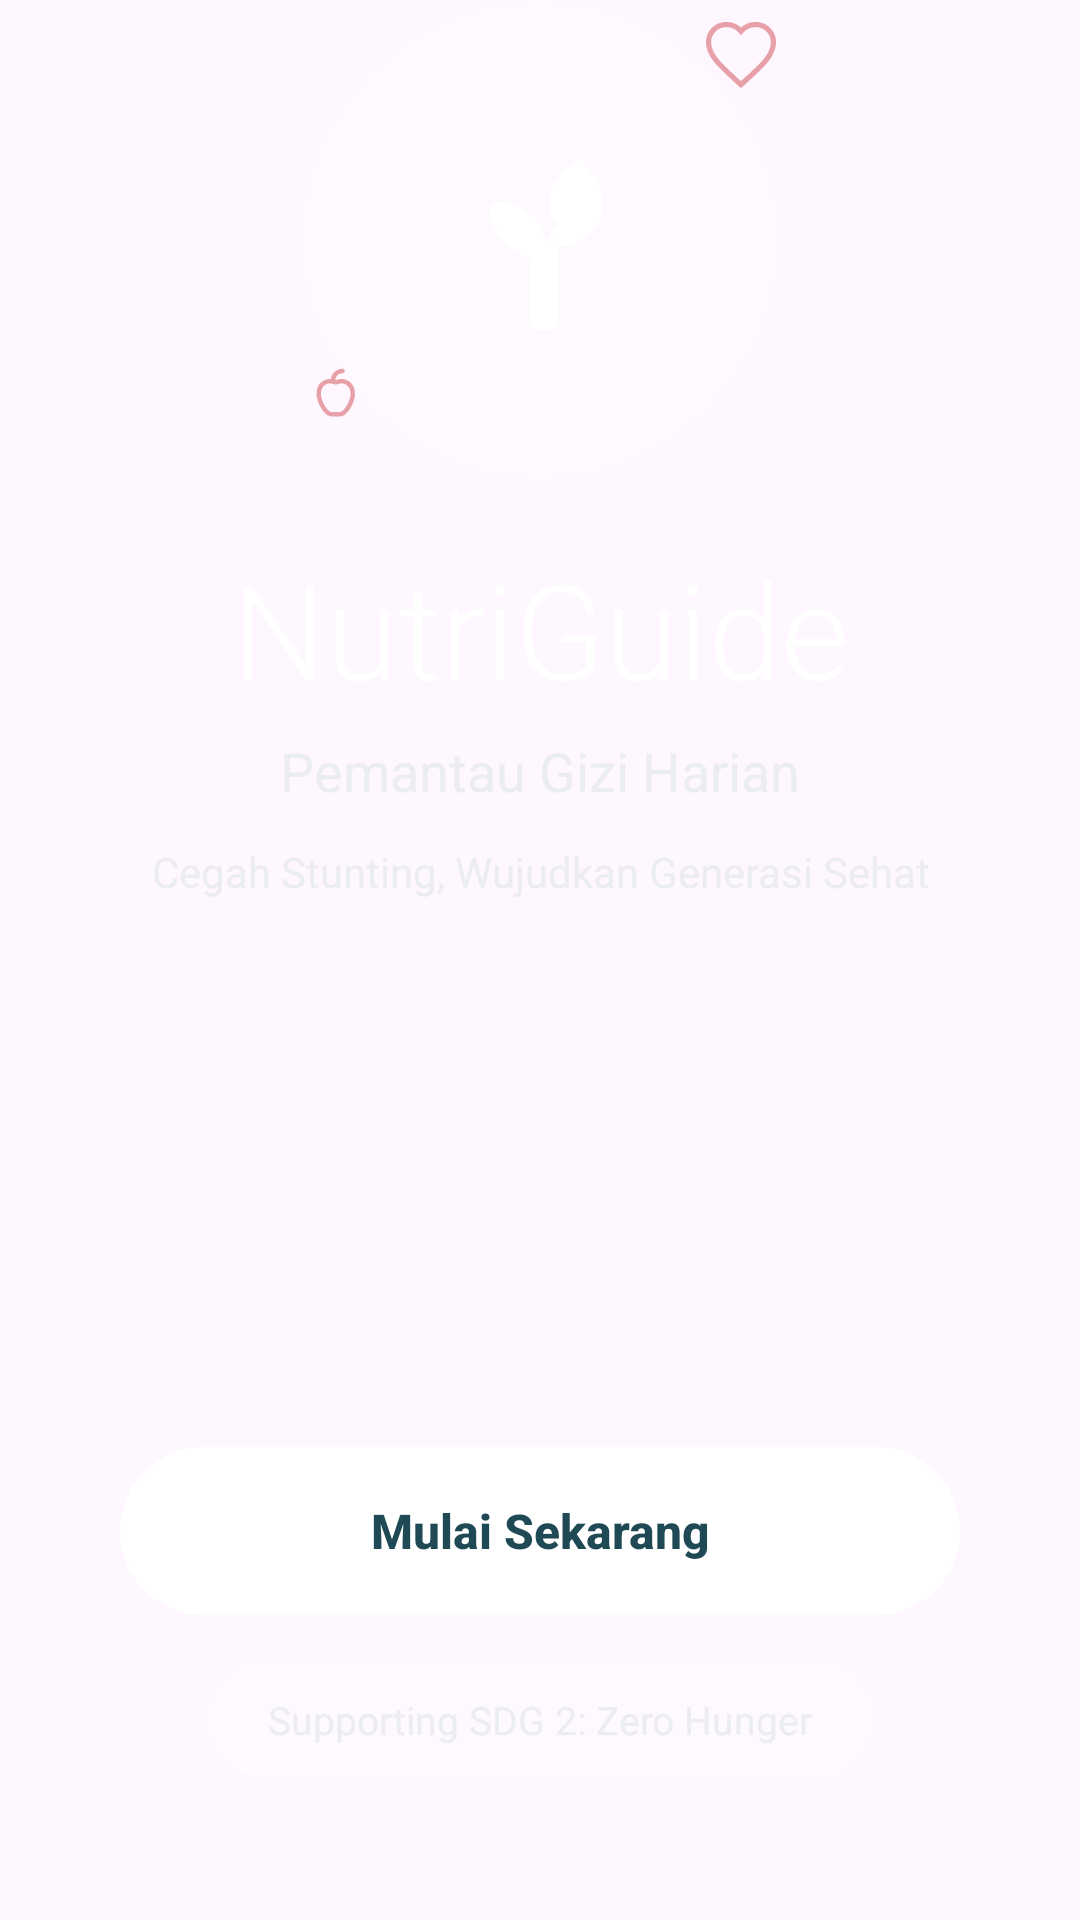

Screen size 1080 × 1920. Icon name, then its box in pixels as (x1, y1, x2, y2):
Ikon apel: (316, 369, 355, 417)
Ikon hati: (706, 22, 776, 88)
